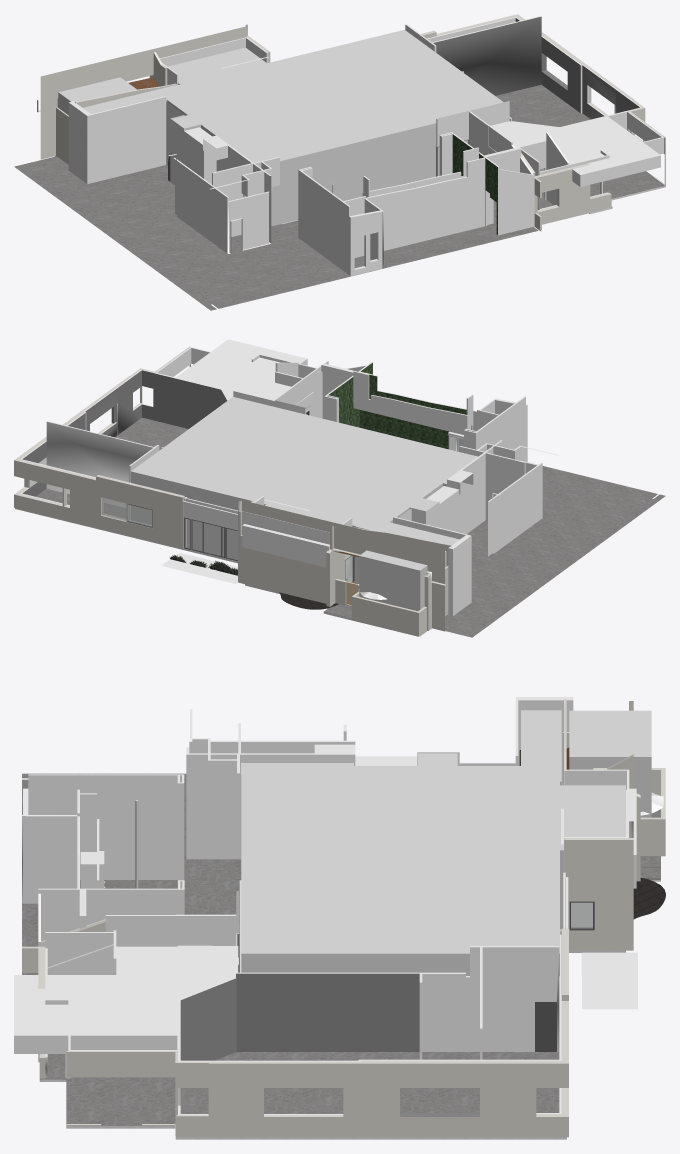
Rendered from registration_02.glb.
The picture shows the model from 3 angles, top to bottom: view 1: azimuth 30°, elevation 25°; view 2: azimuth 150°, elevation 25°; view 3: azimuth 270°, elevation 25°; orthographic projection. The views are drawn at different scales.
Visible parts, largest first — view 1: wall_set, available_moving_area, main_floor, hub_wall_02, hub_wall_01, entrence_wall, patio_wall, entry_wall, available_moving_area.005, audio_area_space, outside_wall, hub_wall_03 (+5 smaller); view 2: available_moving_area, wall_set, main_floor, patio_wall, outside_wall, hub_wall_02, entrence_wall, available_moving_area.004, hub_wall_01, audio_area_ceiling.001, glass_wall, audio_area_space (+8 smaller); view 3: available_moving_area, wall_set, outside_wall, main_floor, entrence_wall, patio_wall, hub_wall_02, available_moving_area.005, available_moving_area.004, plane, available_moving_area.003, audio_area_space (+6 smaller).
Boxes of the visible parts, box(x1,y1,x2,y2) form: wall_set: box(298, 16, 663, 276); available_moving_area: box(167, 30, 503, 226); main_floor: box(14, 84, 665, 310); hub_wall_02: box(168, 135, 279, 253); hub_wall_01: box(68, 96, 166, 183); entrence_wall: box(487, 111, 660, 186); patio_wall: box(37, 24, 270, 164); entry_wall: box(513, 144, 611, 230); available_moving_area.005: box(168, 47, 277, 92); audio_area_space: box(159, 37, 268, 85); outside_wall: box(421, 14, 665, 185); hub_wall_03: box(184, 127, 216, 184); available_moving_area: box(131, 397, 477, 582); wall_set: box(20, 347, 527, 561); main_floor: box(15, 417, 665, 637); patio_wall: box(238, 495, 448, 636); outside_wall: box(14, 346, 190, 548); hub_wall_02: box(447, 440, 558, 556); entrence_wall: box(156, 339, 313, 428); available_moving_area.004: box(359, 550, 446, 636); hub_wall_01: box(393, 517, 471, 615); audio_area_ceiling.001: box(242, 524, 329, 567); glass_wall: box(184, 517, 237, 561); audio_area_space: box(242, 496, 352, 582); available_moving_area: box(241, 766, 559, 976); wall_set: box(22, 774, 568, 1114); outside_wall: box(66, 928, 568, 1137); main_floor: box(22, 773, 660, 1139); entrence_wall: box(14, 945, 238, 1060); patio_wall: box(563, 701, 665, 950); hub_wall_02: box(186, 709, 355, 859); available_moving_area.005: box(525, 785, 625, 952); available_moving_area.004: box(569, 710, 651, 817); plane: box(581, 952, 637, 1009); available_moving_area.003: box(521, 710, 561, 785); audio_area_space: box(561, 769, 629, 927).
Bounding box in the file's own units: 1519 × 375 × 1151.
106 materials, 47 textured.
